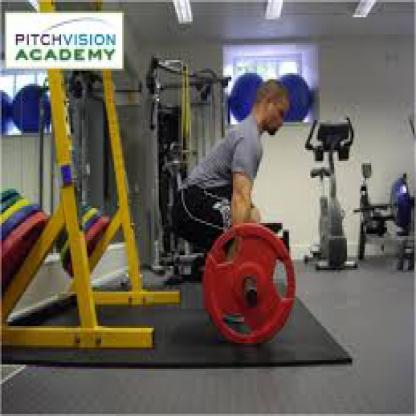Barbell: (247, 288, 261, 309)
